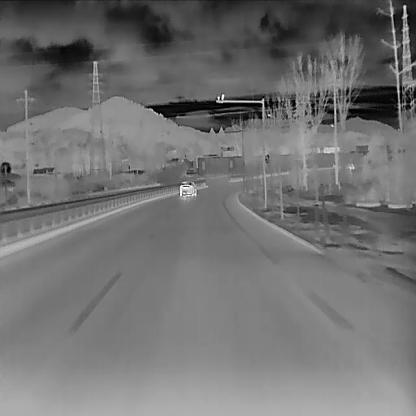car: (179, 180, 196, 196)
